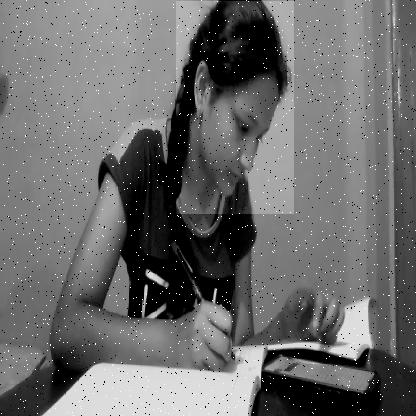Distracted: (176, 1, 294, 214)
